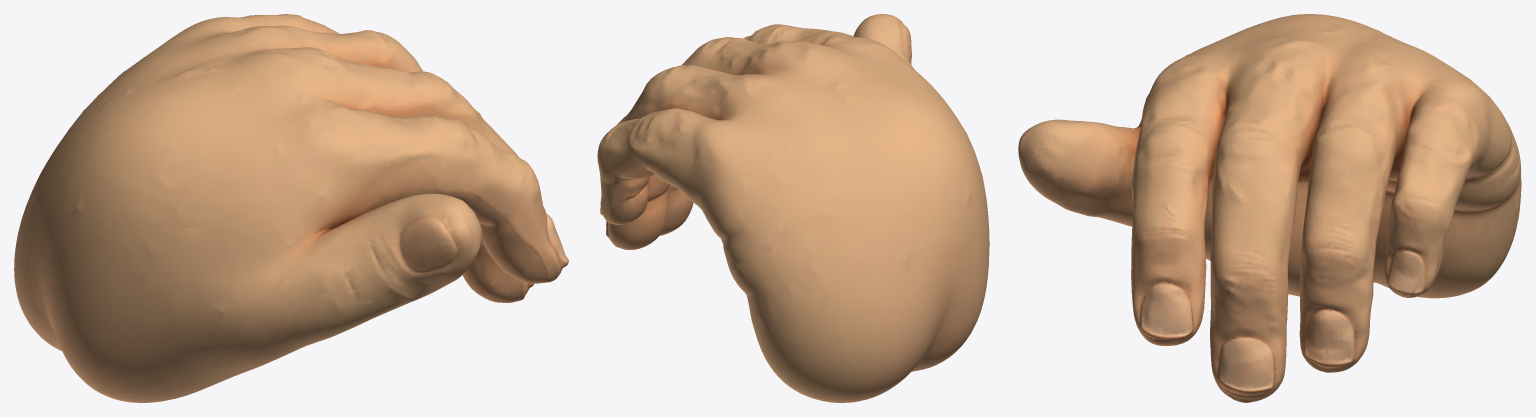
File: jenny-rh.glb
3 renders of one model, left to right at view 1: azimuth 30°, elevation 25°; view 2: azimuth 150°, elevation 25°; view 3: azimuth 270°, elevation 25°, orthographic. The views are drawn at different scales.
Visible parts, largest first — view 1: tripo_node_08cffe3e-9f89-4879-b6db-ecb058fd4363; view 2: tripo_node_08cffe3e-9f89-4879-b6db-ecb058fd4363; view 3: tripo_node_08cffe3e-9f89-4879-b6db-ecb058fd4363.
Boxes of the visible parts, x1,y1,x2,y2 form: tripo_node_08cffe3e-9f89-4879-b6db-ecb058fd4363: (14,14,568,402); tripo_node_08cffe3e-9f89-4879-b6db-ecb058fd4363: (597,14,989,402); tripo_node_08cffe3e-9f89-4879-b6db-ecb058fd4363: (1018,14,1521,402).
Size of the model in its own units: 0.9266 by 0.6525 by 0.9776.
1 material, 1 textured.
